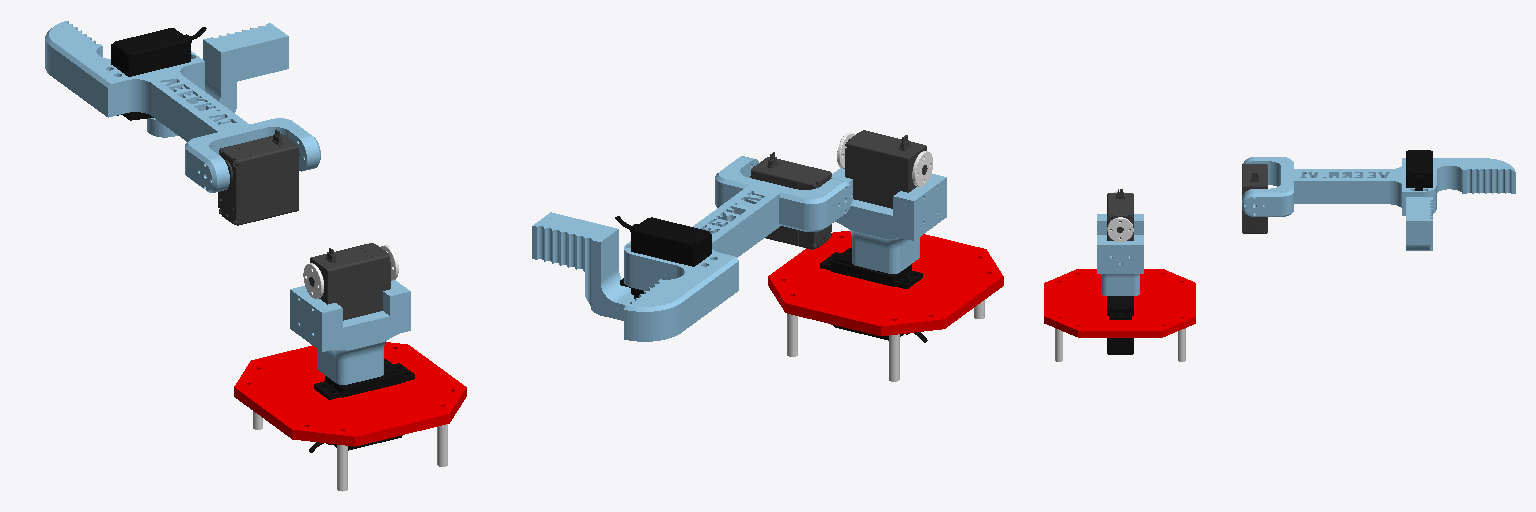
robot.urdf — manipulation:
<?xml version="1.0" ?>
<!-- Generated using onshape-to-robot -->
<!-- Onshape https://cad.onshape.com/documents/fb4a406ab4b29e10c496e657/w/b08079f16009d2afa06dc17a/e/f02ee571cf0782fd54e0db29 -->
<robot name="manipulation">
  <!-- Link 35kg_motor -->
  <link name="35kg_motor">
    <inertial>
      <origin xyz="0.00239635 -0.000110394 0.0295721" rpy="0 0 0"/>
      <mass value="0.125128"/>
      <inertia ixx="9.98352e-05" ixy="-4.34201e-09" ixz="2.39209e-06" iyy="9.63208e-05" iyz="6.20399e-09" izz="0.00017649"/>
    </inertial>
    <!-- Part 35kg_motor -->
    <visual>
      <origin xyz="0.00888767 -9.66556e-05 0.00274007" rpy="0 -0 2.22045e-16"/>
      <geometry>
        <mesh filename="package://assets/35kg_motor.stl"/>
      </geometry>
      <material name="35kg_motor_material">
        <color rgba="0.101961 0.101961 0.101961 1"/>
      </material>
    </visual>
    <collision>
      <origin xyz="0.00888767 -9.66556e-05 0.00274007" rpy="0 -0 2.22045e-16"/>
      <geometry>
        <mesh filename="package://assets/35kg_motor.stl"/>
      </geometry>
    </collision>
    <!-- Part spacer -->
    <visual>
      <origin xyz="-0.0321613 0.046431 0.000181038" rpy="0 -0 2.22045e-16"/>
      <geometry>
        <mesh filename="package://assets/spacer.stl"/>
      </geometry>
      <material name="spacer_material">
        <color rgba="0.917647 0.917647 0.917647 1"/>
      </material>
    </visual>
    <collision>
      <origin xyz="-0.0321613 0.046431 0.000181038" rpy="0 -0 2.22045e-16"/>
      <geometry>
        <mesh filename="package://assets/spacer.stl"/>
      </geometry>
    </collision>
    <!-- Part spacer_2 -->
    <visual>
      <origin xyz="0.0319026 -0.0466243 0.000181038" rpy="0 -0 2.22045e-16"/>
      <geometry>
        <mesh filename="package://assets/spacer.stl"/>
      </geometry>
      <material name="spacer_2_material">
        <color rgba="0.917647 0.917647 0.917647 1"/>
      </material>
    </visual>
    <collision>
      <origin xyz="0.0319026 -0.0466243 0.000181038" rpy="0 -0 2.22045e-16"/>
      <geometry>
        <mesh filename="package://assets/spacer.stl"/>
      </geometry>
    </collision>
    <!-- Part spacer_3 -->
    <visual>
      <origin xyz="0.0319026 0.046431 0.000181038" rpy="0 -0 2.22045e-16"/>
      <geometry>
        <mesh filename="package://assets/spacer.stl"/>
      </geometry>
      <material name="spacer_3_material">
        <color rgba="0.917647 0.917647 0.917647 1"/>
      </material>
    </visual>
    <collision>
      <origin xyz="0.0319026 0.046431 0.000181038" rpy="0 -0 2.22045e-16"/>
      <geometry>
        <mesh filename="package://assets/spacer.stl"/>
      </geometry>
    </collision>
    <!-- Part oct_v3 -->
    <visual>
      <origin xyz="-0.000129333 -9.66556e-05 0.030181" rpy="0 6.33687e-18 -3.14159"/>
      <geometry>
        <mesh filename="package://assets/oct_v3.stl"/>
      </geometry>
      <material name="oct_v3_material">
        <color rgba="1 0 0 1"/>
      </material>
    </visual>
    <collision>
      <origin xyz="-0.000129333 -9.66556e-05 0.030181" rpy="0 6.33687e-18 -3.14159"/>
      <geometry>
        <mesh filename="package://assets/oct_v3.stl"/>
      </geometry>
    </collision>
    <!-- Part spacer_4 -->
    <visual>
      <origin xyz="-0.0321613 -0.0466243 0.000181038" rpy="0 -0 2.22045e-16"/>
      <geometry>
        <mesh filename="package://assets/spacer.stl"/>
      </geometry>
      <material name="spacer_4_material">
        <color rgba="0.917647 0.917647 0.917647 1"/>
      </material>
    </visual>
    <collision>
      <origin xyz="-0.0321613 -0.0466243 0.000181038" rpy="0 -0 2.22045e-16"/>
      <geometry>
        <mesh filename="package://assets/spacer.stl"/>
      </geometry>
    </collision>
  </link>
  <!-- Link servo_holder -->
  <link name="servo_holder">
    <inertial>
      <origin xyz="-1.07114e-05 -4.3347e-18 -0.0345629" rpy="0 0 0"/>
      <mass value="0.105309"/>
      <inertia ixx="4.01746e-05" ixy="2.05818e-11" ixz="-4.63548e-08" iyy="5.3155e-05" iyz="-7.80974e-21" izz="2.94695e-05"/>
    </inertial>
    <!-- Part ds_servo -->
    <visual>
      <origin xyz="1.68593e-17 -1.02864e-17 -0.0499623" rpy="3.88578e-16 1.5708 0"/>
      <geometry>
        <mesh filename="package://assets/ds_servo.stl"/>
      </geometry>
      <material name="ds_servo_material">
        <color rgba="0.301961 0.301961 0.301961 1"/>
      </material>
    </visual>
    <collision>
      <origin xyz="1.68593e-17 -1.02864e-17 -0.0499623" rpy="3.88578e-16 1.5708 0"/>
      <geometry>
        <mesh filename="package://assets/ds_servo.stl"/>
      </geometry>
    </collision>
    <!-- Part servo_holder -->
    <visual>
      <origin xyz="0 -6.77626e-20 -0.0490095" rpy="-2.5108e-32 -1.53151e-36 -3.42352e-36"/>
      <geometry>
        <mesh filename="package://assets/servo_holder.stl"/>
      </geometry>
      <material name="servo_holder_material">
        <color rgba="0.615686 0.811765 0.929412 1"/>
      </material>
    </visual>
    <collision>
      <origin xyz="0 -6.77626e-20 -0.0490095" rpy="-2.5108e-32 -1.53151e-36 -3.42352e-36"/>
      <geometry>
        <mesh filename="package://assets/servo_holder.stl"/>
      </geometry>
    </collision>
  </link>
  <!-- Link horn_1 -->
  <link name="horn_1">
    <inertial>
      <origin xyz="-0.071076 -0.00518375 0.0218401" rpy="0 0 0"/>
      <mass value="0.116373"/>
      <inertia ixx="4.78695e-05" ixy="-1.8578e-05" ixz="5.96602e-08" iyy="0.000207418" iyz="6.55336e-08" izz="0.000188247"/>
    </inertial>
    <!-- Part horn_2 -->
    <visual>
      <origin xyz="-0.01 0 0.02165" rpy="-1.10055e-32 -6.18141e-32 -1.80358e-32"/>
      <geometry>
        <mesh filename="package://assets/horn_2.stl"/>
      </geometry>
      <material name="horn_2_material">
        <color rgba="1 1 1 1"/>
      </material>
    </visual>
    <collision>
      <origin xyz="-0.01 0 0.02165" rpy="-1.10055e-32 -6.18141e-32 -1.80358e-32"/>
      <geometry>
        <mesh filename="package://assets/horn_2.stl"/>
      </geometry>
    </collision>
    <!-- Part ds_servo_2 -->
    <visual>
      <origin xyz="-0.102045 -0.015 0.02185" rpy="3.14159 1.55906e-16 -1.5708"/>
      <geometry>
        <mesh filename="package://assets/ds_servo.stl"/>
      </geometry>
      <material name="ds_servo_2_material">
        <color rgba="0.301961 0.301961 0.301961 1"/>
      </material>
    </visual>
    <collision>
      <origin xyz="-0.102045 -0.015 0.02185" rpy="3.14159 1.55906e-16 -1.5708"/>
      <geometry>
        <mesh filename="package://assets/ds_servo.stl"/>
      </geometry>
    </collision>
    <!-- Part arm_1 -->
    <visual>
      <origin xyz="-0.02 -2.77556e-17 0.02185" rpy="-1.5708 -2.22045e-16 -1.5708"/>
      <geometry>
        <mesh filename="package://assets/arm_1.stl"/>
      </geometry>
      <material name="arm_1_material">
        <color rgba="0.615686 0.811765 0.929412 1"/>
      </material>
    </visual>
    <collision>
      <origin xyz="-0.02 -2.77556e-17 0.02185" rpy="-1.5708 -2.22045e-16 -1.5708"/>
      <geometry>
        <mesh filename="package://assets/arm_1.stl"/>
      </geometry>
    </collision>
    <!-- Part horn_1 -->
    <visual>
      <origin xyz="-0.01 -1.38778e-17 0.02185" rpy="-2.22045e-16 4.71845e-16 1.661e-15"/>
      <geometry>
        <mesh filename="package://assets/horn_1.stl"/>
      </geometry>
      <material name="horn_1_material">
        <color rgba="1 1 1 1"/>
      </material>
    </visual>
    <collision>
      <origin xyz="-0.01 -1.38778e-17 0.02185" rpy="-2.22045e-16 4.71845e-16 1.661e-15"/>
      <geometry>
        <mesh filename="package://assets/horn_1.stl"/>
      </geometry>
    </collision>
  </link>
  <!-- Link arm_2 -->
  <link name="arm_2">
    <inertial>
      <origin xyz="-0.000630833 0.0994625 0.0208054" rpy="0 0 0"/>
      <mass value="0.150395"/>
      <inertia ixx="0.000474123" ixy="2.34312e-06" ixz="6.82468e-07" iyy="5.46681e-05" iyz="3.85787e-05" izz="0.000439431"/>
    </inertial>
    <!-- Part 35kg_motor_2 -->
    <visual>
      <origin xyz="-0.023441 0.125 0.02765" rpy="7.03368e-16 1.5708 0"/>
      <geometry>
        <mesh filename="package://assets/35kg_motor.stl"/>
      </geometry>
      <material name="35kg_motor_2_material">
        <color rgba="0.101961 0.101961 0.101961 1"/>
      </material>
    </visual>
    <collision>
      <origin xyz="-0.023441 0.125 0.02765" rpy="7.03368e-16 1.5708 0"/>
      <geometry>
        <mesh filename="package://assets/35kg_motor.stl"/>
      </geometry>
    </collision>
    <!-- Part arm_2 -->
    <visual>
      <origin xyz="-0.01 0.02 0.02465" rpy="1.5708 -1.71793e-31 -4.17189e-31"/>
      <geometry>
        <mesh filename="package://assets/arm_2.stl"/>
      </geometry>
      <material name="arm_2_material">
        <color rgba="0.615686 0.811765 0.929412 1"/>
      </material>
    </visual>
    <collision>
      <origin xyz="-0.01 0.02 0.02465" rpy="1.5708 -1.71793e-31 -4.17189e-31"/>
      <geometry>
        <mesh filename="package://assets/arm_2.stl"/>
      </geometry>
    </collision>
  </link>
  <!-- Link gripper -->
  <link name="gripper">
    <inertial>
      <origin xyz="0.0380647 -0.000323199 0.0130458" rpy="0 0 0"/>
      <mass value="0.0355513"/>
      <inertia ixx="8.23146e-06" ixy="1.50081e-07" ixz="-7.77264e-06" iyy="2.1921e-05" iyz="9.91436e-08" izz="1.58976e-05"/>
    </inertial>
    <!-- Part gripper -->
    <visual>
      <origin xyz="-0.01 -0.01 0" rpy="3.14159 -1.72846e-32 5.74055e-32"/>
      <geometry>
        <mesh filename="package://assets/gripper.stl"/>
      </geometry>
      <material name="gripper_material">
        <color rgba="0.615686 0.811765 0.929412 1"/>
      </material>
    </visual>
    <collision>
      <origin xyz="-0.01 -0.01 0" rpy="3.14159 -1.72846e-32 5.74055e-32"/>
      <geometry>
        <mesh filename="package://assets/gripper.stl"/>
      </geometry>
    </collision>
  </link>
  <!-- Joint from arm_2 to gripper -->
  <joint name="gripper" type="revolute">
    <origin xyz="0.022959 0.125 0.0366647" rpy="-7.6827e-16 -1.5708 0"/>
    <parent link="arm_2"/>
    <child link="gripper"/>
    <axis xyz="0 0 1"/>
    <limit effort="10" velocity="10" lower="0" upper="1.5708"/>
  </joint>
  <!-- Joint from horn_1 to arm_2 -->
  <joint name="arm_2" type="revolute">
    <origin xyz="-0.102045 -0.025 -0.0024" rpy="1.4803e-16 1.80766e-15 1.5708"/>
    <parent link="horn_1"/>
    <child link="arm_2"/>
    <axis xyz="0 0 1"/>
    <limit effort="10" velocity="10" lower="0" upper="3.14159"/>
  </joint>
  <!-- Joint from servo_holder to horn_1 -->
  <joint name="arm_1" type="revolute">
    <origin xyz="-0.02125 2.84603e-19 -0.0599623" rpy="1.5708 -1.56935e-16 1.5708"/>
    <parent link="servo_holder"/>
    <child link="horn_1"/>
    <axis xyz="0 0 1"/>
    <limit effort="10" velocity="10" lower="0" upper="3.14159"/>
  </joint>
  <!-- Joint from 35kg_motor to servo_holder -->
  <joint name="shoulder" type="revolute">
    <origin xyz="-0.000127064 -9.66556e-05 0.0461401" rpy="-3.14159 -3.05537e-20 1.66533e-16"/>
    <parent link="35kg_motor"/>
    <child link="servo_holder"/>
    <axis xyz="0 0 1"/>
    <limit effort="10" velocity="10" lower="0" upper="6.28319"/>
  </joint>
</robot>

--- What the picture shows (computed from the rendered views, not written in the file) ---
The picture shows the robot from 3 angles, left to right: view 1: azimuth 30°, elevation 25°; view 2: azimuth 150°, elevation 25°; view 3: azimuth 270°, elevation 25°; orthographic projection.
Model manipulation with 5 links and 4 joints (4 revolute), rooted at 35kg_motor, posed every joint at zero.
Links seen in each view (by area): view 1: arm_2, 35kg_motor, servo_holder, horn_1, gripper; view 2: arm_2, 35kg_motor, servo_holder, gripper, horn_1; view 3: arm_2, 35kg_motor, servo_holder, horn_1, gripper.
Link boxes in pixels (<box>): arm_2: <box>45,21,320,192</box>; 35kg_motor: <box>234,342,466,491</box>; servo_holder: <box>290,243,410,384</box>; horn_1: <box>218,129,398,298</box>; gripper: <box>147,23,288,137</box>; arm_2: <box>615,156,852,341</box>; 35kg_motor: <box>768,231,1003,381</box>; servo_holder: <box>831,130,946,273</box>; gripper: <box>532,212,634,320</box>; horn_1: <box>750,133,932,249</box>; arm_2: <box>1242,150,1515,216</box>; 35kg_motor: <box>1044,269,1195,361</box>; servo_holder: <box>1097,189,1143,295</box>; horn_1: <box>1107,164,1267,241</box>; gripper: <box>1406,197,1432,250</box>.
Size in the robot's own frame: 0.1416 by 0.3577 by 0.1544 metres.
14 mesh visuals loaded from 10 distinct referenced files (9 binary STL); not drawn: 1 (reference not matched to a file when rendering).
